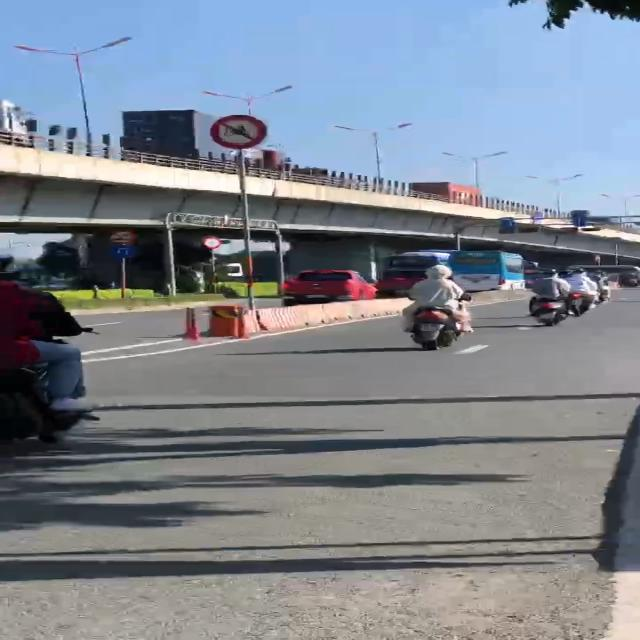Bien bao cam xe may: (207, 112, 270, 151)
